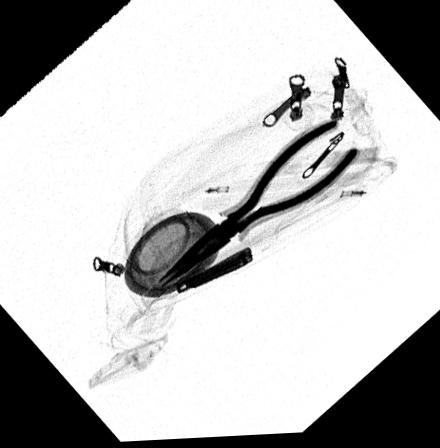Pliers: (158, 120, 361, 291)
